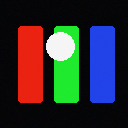2 circle: (46, 32, 74, 60)
